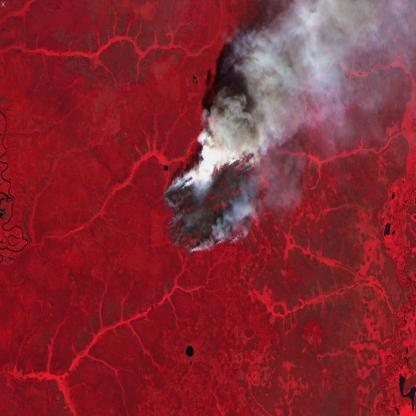fire: (162, 140, 260, 262)
